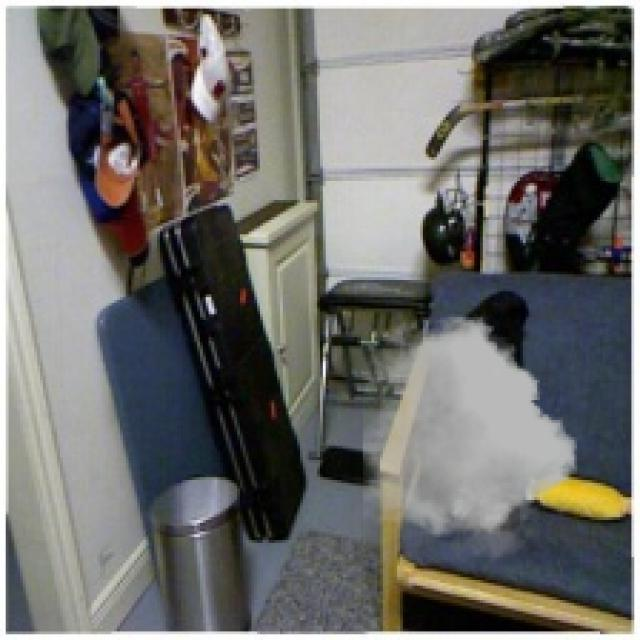smoke: (363, 311, 577, 566)
